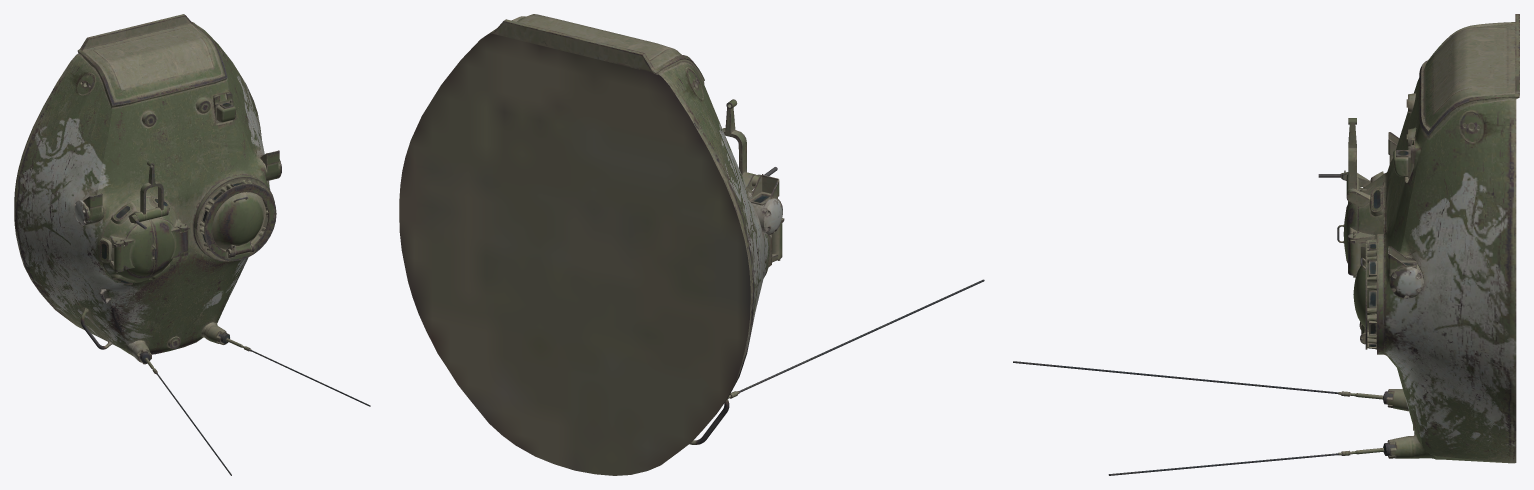
The model's file is Turret_01.glb.
3 renders of one model, left to right at view 1: azimuth 30°, elevation 25°; view 2: azimuth 150°, elevation 25°; view 3: azimuth 270°, elevation 25°, orthographic. The views are drawn at different scales.
Visible parts, largest first — view 1: set_0_group_0; view 2: set_0_group_0; view 3: set_0_group_0.
Boxes of the visible parts, x1=… form: set_0_group_0: x1=14, y1=14, x2=370, y2=475; set_0_group_0: x1=399, y1=14, x2=984, y2=475; set_0_group_0: x1=1013, y1=14, x2=1519, y2=475.
Size of the model in its own units: 2.3 by 2.71 by 3.11.
Materials: 1 (1 with a texture image).
